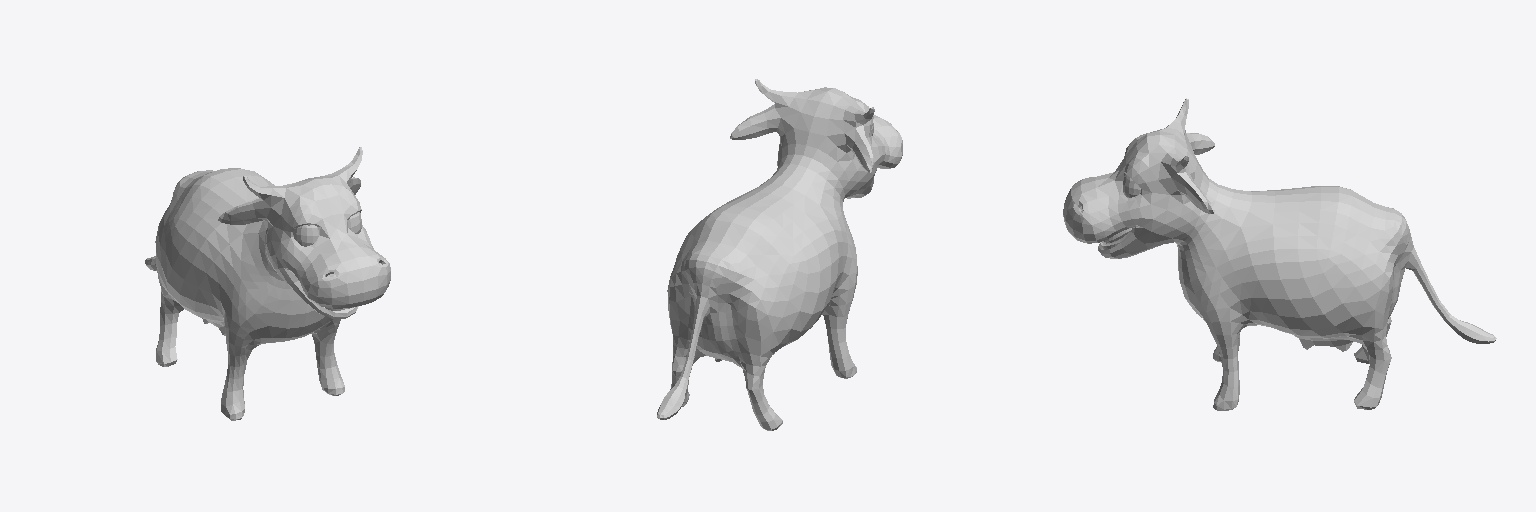
Rendered from cow.obj.
3 views of the same model, side by side, from view 1: azimuth 30°, elevation 25°; view 2: azimuth 150°, elevation 25°; view 3: azimuth 270°, elevation 25° (orthographic).
Visible parts, largest first — view 1: Cow; view 2: Cow; view 3: Cow.
Boxes of the visible parts, x1=… form: Cow: x1=145, y1=147, x2=390, y2=420; Cow: x1=657, y1=79, x2=902, y2=430; Cow: x1=1063, y1=98, x2=1496, y2=410.
Bounding box in the file's own units: 3.55 × 6.16 × 9.39.